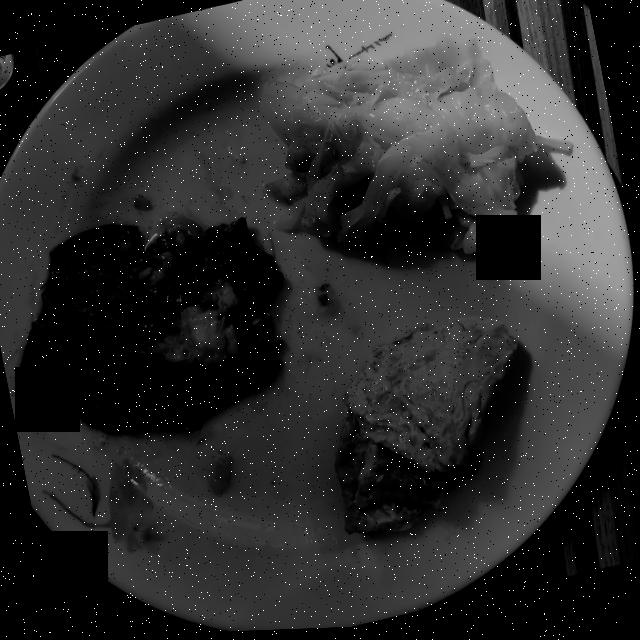Kabayaki sea bream fillet: (18, 217, 282, 434)
cabbage: (260, 44, 570, 258)
coin: (0, 53, 14, 89)
